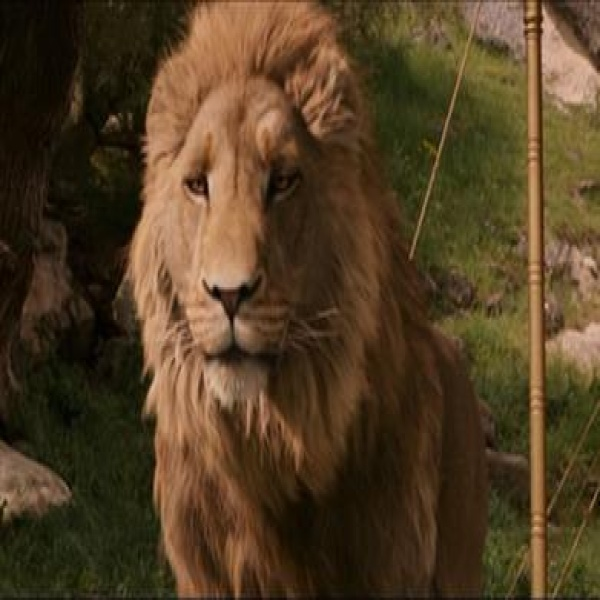Lion: (126, 8, 496, 600)
